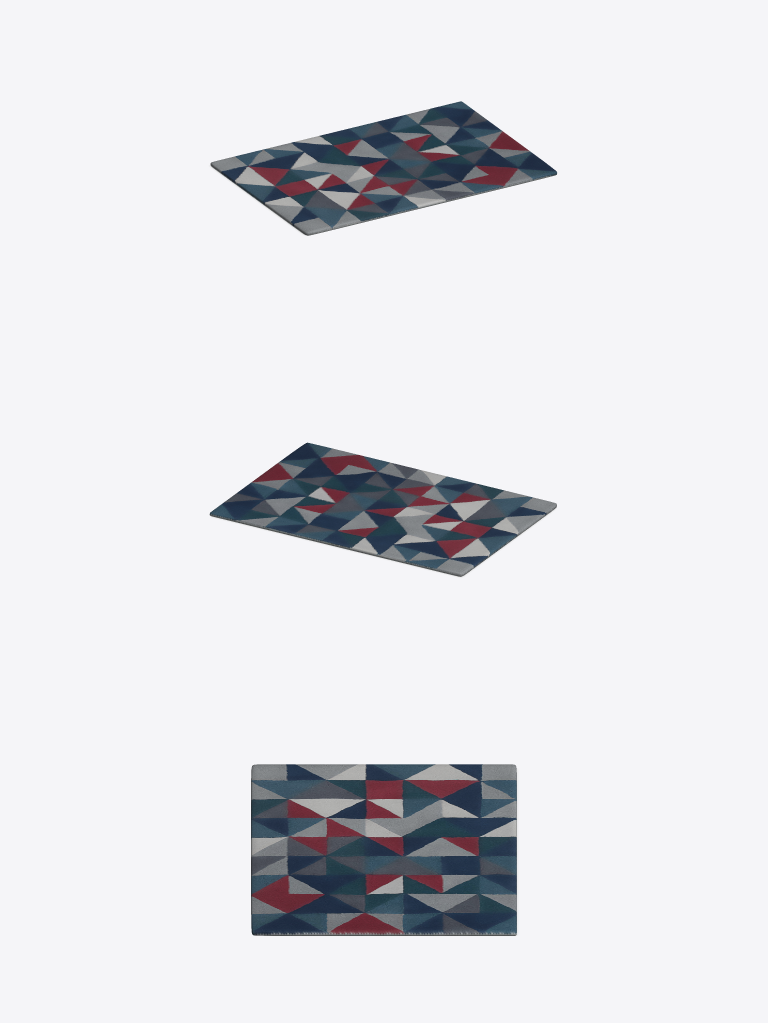
The model's file is rug.glb.
The picture shows the model from 3 angles, top to bottom: view 1: azimuth 30°, elevation 25°; view 2: azimuth 150°, elevation 25°; view 3: azimuth 270°, elevation 25°; orthographic projection. The views are drawn at different scales.
Visible parts, largest first — view 1: Henrik_Hand_Tufted_Wool_Rug_Grey_and_RedMulti_120x180cm_HENR; view 2: Henrik_Hand_Tufted_Wool_Rug_Grey_and_RedMulti_120x180cm_HENR, Plane001; view 3: Henrik_Hand_Tufted_Wool_Rug_Grey_and_RedMulti_120x180cm_HENR.
Boxes of the visible parts, <box> form: Henrik_Hand_Tufted_Wool_Rug_Grey_and_RedMulti_120x180cm_HENR: <box>210,101,556,235</box>; Henrik_Hand_Tufted_Wool_Rug_Grey_and_RedMulti_120x180cm_HENR: <box>209,442,556,576</box>; Plane001: <box>210,507,556,577</box>; Henrik_Hand_Tufted_Wool_Rug_Grey_and_RedMulti_120x180cm_HENR: <box>251,764,516,935</box>.
Bounding box in the file's own units: 334 × 2.9 × 334.
2 materials, 2 textured.
